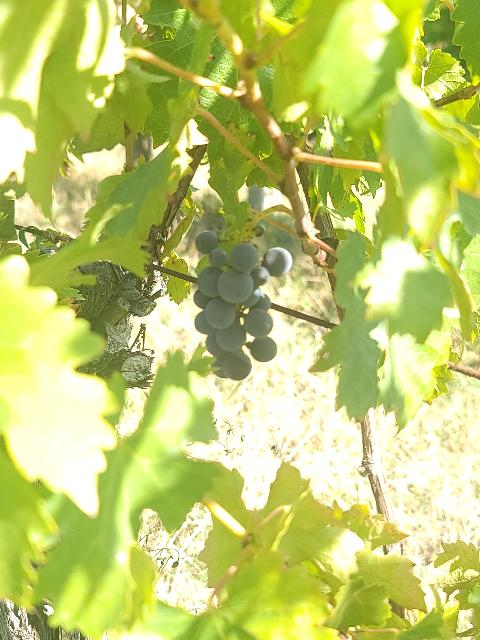grapes: (194, 231, 292, 380)
